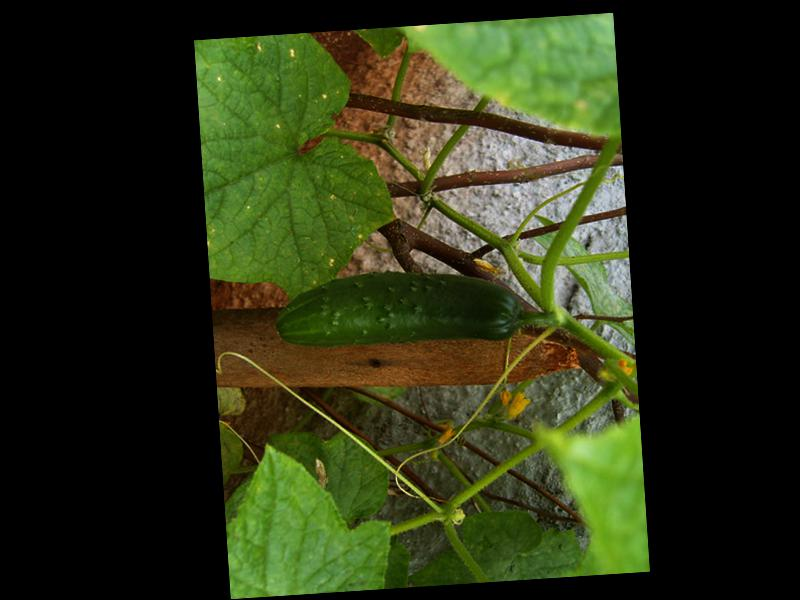Cucumber: (272, 262, 525, 356)
